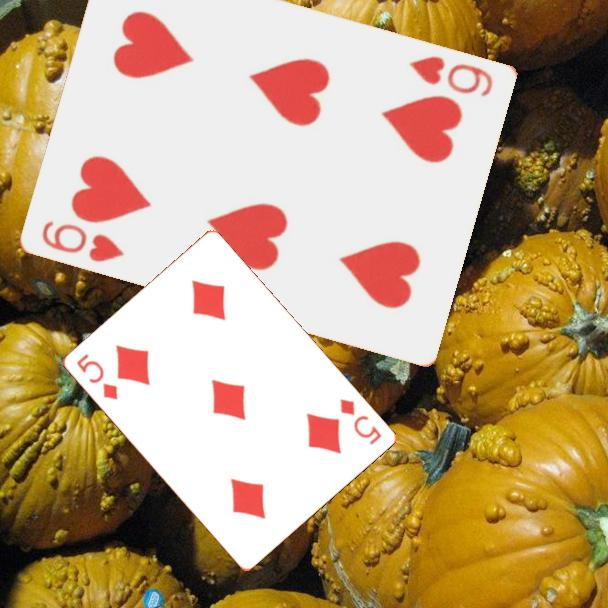d05: (72, 350, 120, 403), (336, 395, 384, 448)
h06: (38, 216, 128, 265), (406, 52, 496, 100)
